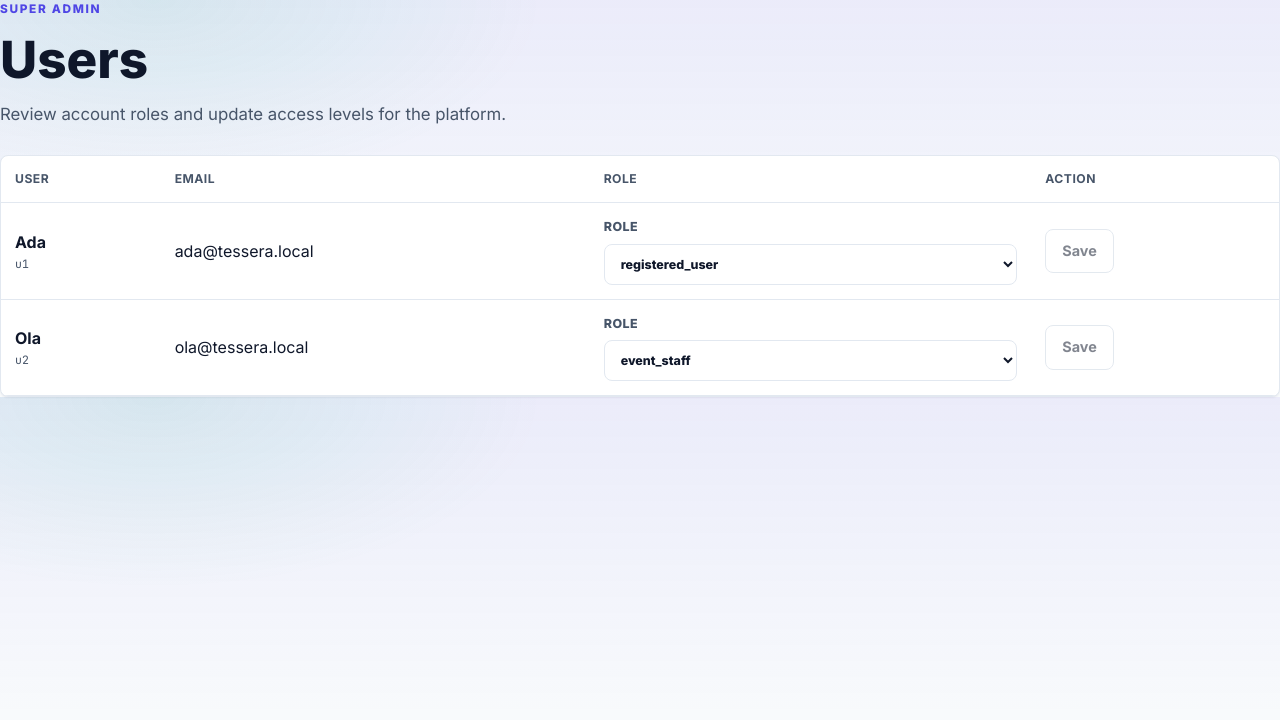
Test: AdminUsers › lists users and updates a role
Expected: the text "ada@tessera.local" is shown, [161,203,590,299]
Select "organizer" in the dropdown labelled "Role" in the row of "u1": x=810, y=264 [604,244,1017,285]
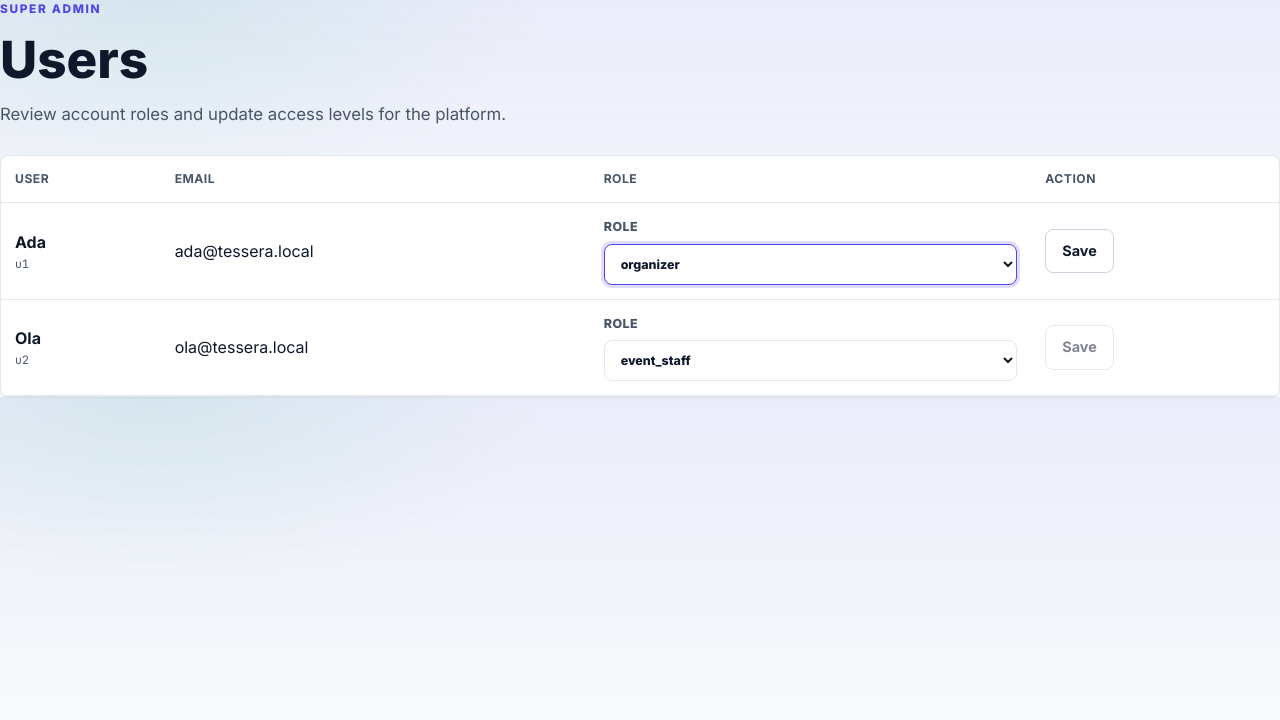
Click the button "Save" in the row of "u1": x=1080, y=251 [1045,229,1114,273]
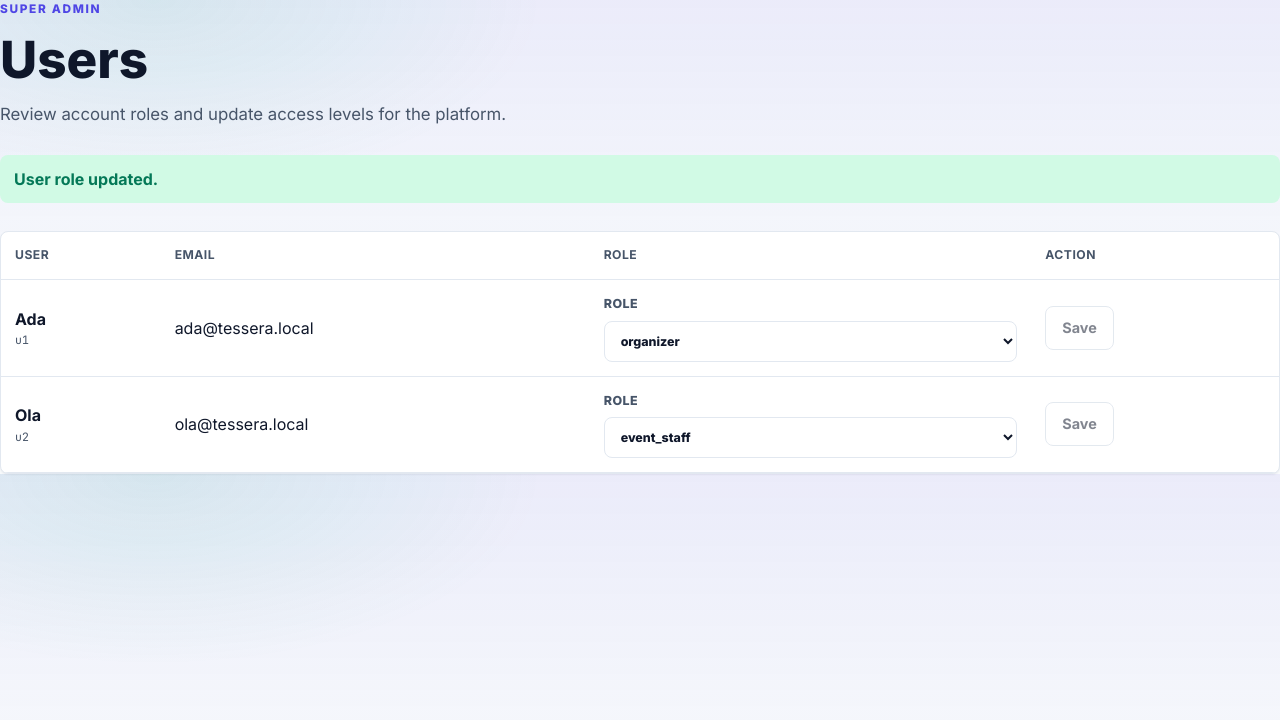
Now the text "User role updated." is shown, box [0,155,1279,203]
